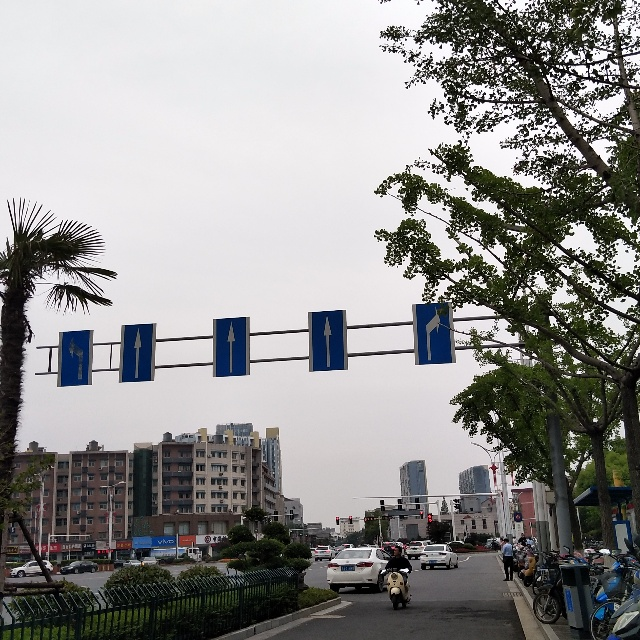left: (53, 333, 91, 386)
right: (413, 305, 450, 361)
straight: (310, 312, 347, 369), (214, 321, 247, 376), (124, 322, 151, 380)
